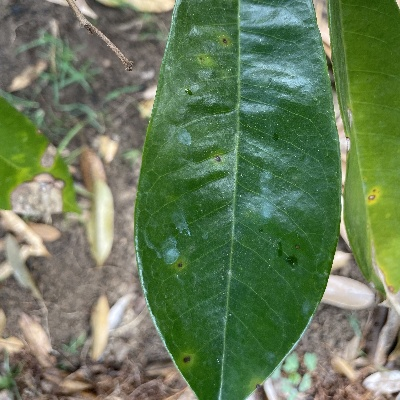Leaf_Phomopsis: (132, 0, 356, 400)
